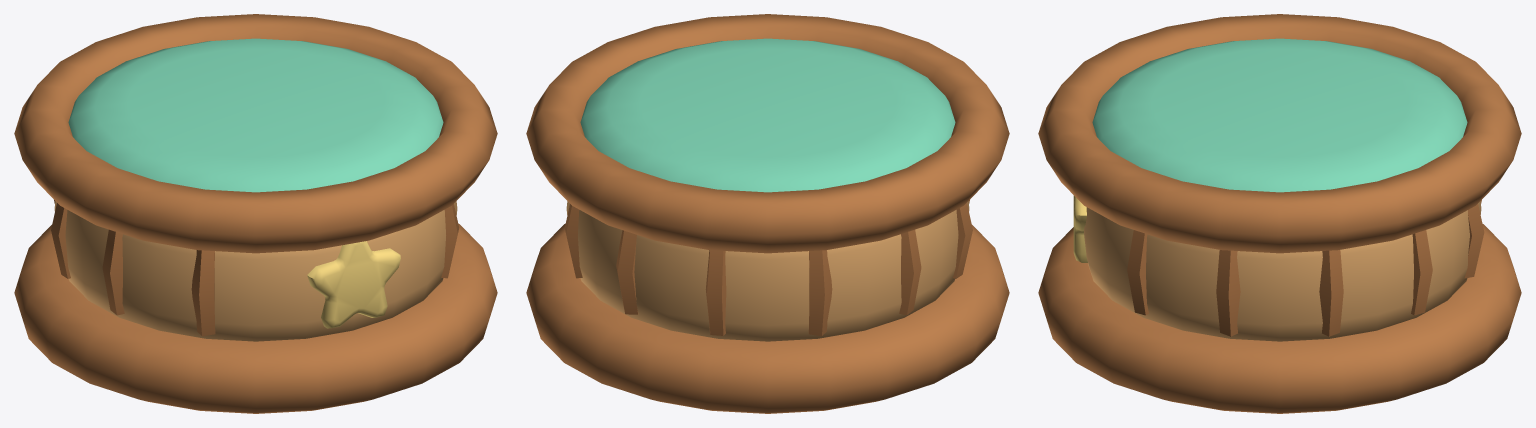
Rendered from ShopDecorPedestal.fbx.
3 renders of one model, left to right at view 1: azimuth 30°, elevation 25°; view 2: azimuth 150°, elevation 25°; view 3: azimuth 270°, elevation 25°, orthographic.
Parts seen in each view (by area): view 1: ShopDecorPedestal; view 2: ShopDecorPedestal; view 3: ShopDecorPedestal.
Boxes of the visible parts, box(x1,y1,x2,y2) form: ShopDecorPedestal: box(14, 14, 497, 413); ShopDecorPedestal: box(526, 14, 1009, 413); ShopDecorPedestal: box(1038, 14, 1521, 413).
Bounding box in the file's own units: 0.6 × 0.3 × 0.6.
